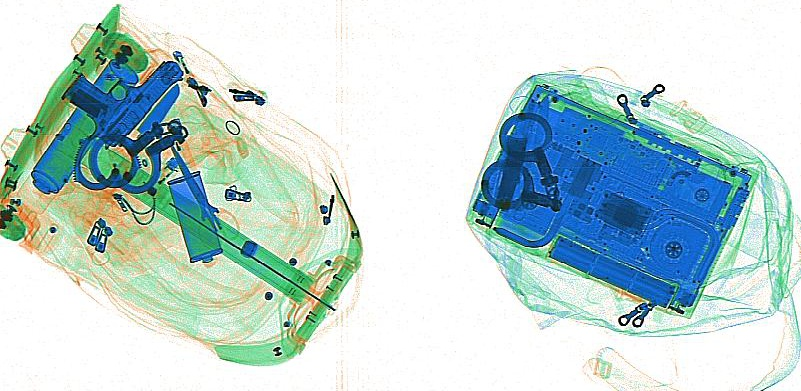handcuffs: (73, 117, 189, 194), (478, 109, 563, 212)
knife: (107, 82, 183, 185), (491, 135, 528, 212)
lighter: (170, 47, 195, 90)
pressure: (29, 57, 140, 196)
scissors: (167, 140, 241, 250)
zippooil: (168, 168, 221, 264)
